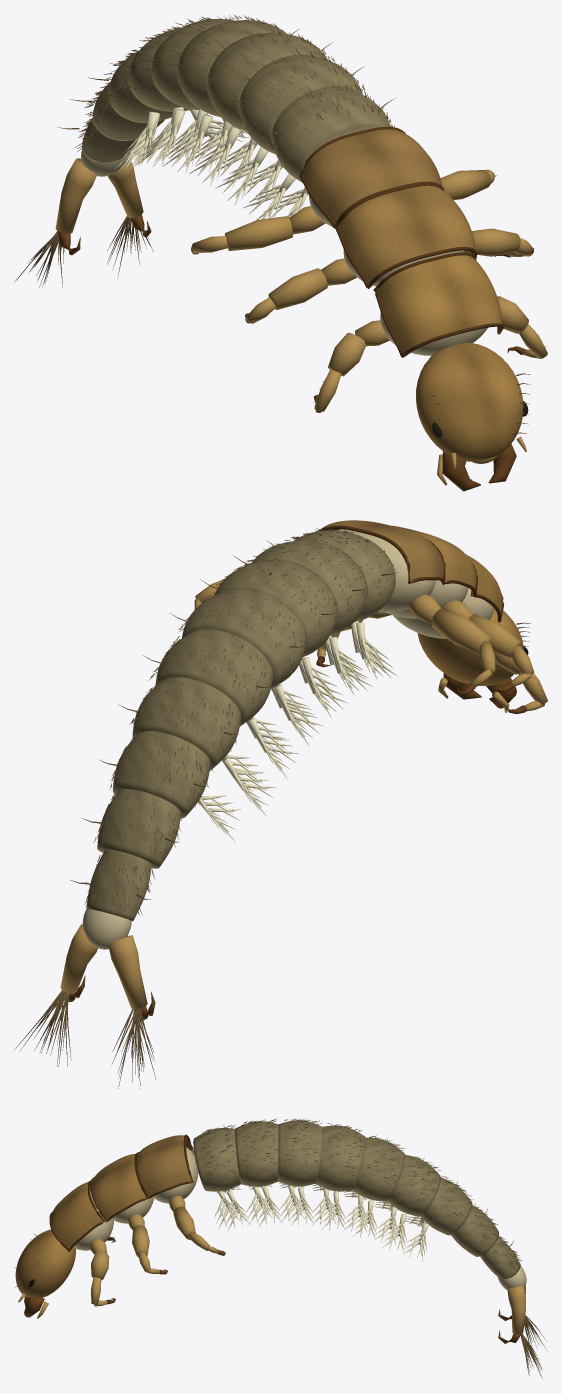
The model's file is Hydropsyche_web.glb.
The picture shows the model from 3 angles, top to bottom: view 1: azimuth 30°, elevation 25°; view 2: azimuth 150°, elevation 25°; view 3: azimuth 270°, elevation 25°; orthographic projection. The views are drawn at different scales.
Parts seen in each view (by area): view 1: cap, mesonot, pronot, metanot, abdomen_01, abdomen_02, abdomen_03, abdomen_04, pota_3_E, pota_2_E, abdomen_05, pota_1_E (+23 smaller); view 2: abdomen_05, abdomen_06, abdomen_04, abdomen_07, abdomen_03, abdomen_08, abdomen_02, abdomen_09, abdomen_01, metanot, pota_3_E, cap (+19 smaller); view 3: cap, abdomen_03, metanot, abdomen_02, abdomen_04, abdomen_01, mesonot, abdomen_05, pronot, abdomen_06, abdomen_07, abdomen_08 (+17 smaller).
Part boxes in pixels (x1,y1,x2,y2): cap: [416, 342, 523, 461]; mesonot: [335, 183, 477, 288]; pronot: [373, 252, 503, 357]; metanot: [299, 126, 444, 228]; abdomen_01: [272, 86, 390, 182]; abdomen_02: [239, 54, 362, 154]; abdomen_03: [207, 32, 327, 131]; abdomen_04: [177, 20, 286, 117]; pota_3_E: [191, 206, 325, 253]; pota_2_E: [245, 258, 356, 323]; abdomen_05: [151, 19, 232, 110]; pota_1_E: [314, 320, 389, 412]; abdomen_05: [155, 629, 273, 726]; abdomen_06: [132, 677, 240, 770]; abdomen_04: [182, 589, 306, 688]; abdomen_07: [112, 731, 210, 818]; abdomen_03: [214, 559, 337, 656]; abdomen_08: [97, 789, 180, 868]; abdomen_02: [251, 540, 367, 635]; abdomen_09: [86, 849, 151, 921]; abdomen_01: [293, 530, 395, 622]; metanot: [318, 520, 445, 584]; pota_3_E: [408, 594, 495, 686]; cap: [417, 609, 523, 686]; cap: [15, 1229, 75, 1297]; abdomen_03: [278, 1120, 322, 1186]; metanot: [136, 1134, 193, 1198]; abdomen_02: [235, 1121, 278, 1186]; abdomen_04: [315, 1125, 365, 1191]; abdomen_01: [193, 1128, 240, 1191]; mesonot: [91, 1153, 147, 1221]; abdomen_05: [352, 1137, 404, 1201]; pronot: [49, 1180, 105, 1251]; abdomen_06: [387, 1154, 440, 1216]; abdomen_07: [420, 1177, 472, 1235]; abdomen_08: [451, 1205, 498, 1256].
Bounding box in the file's own units: 4.03 × 4.83 × 9.58.
